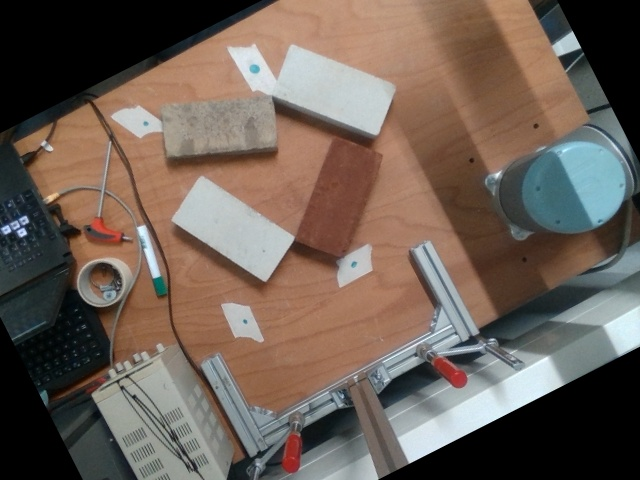brick: (170, 172, 296, 282), (270, 42, 397, 135), (290, 133, 384, 258), (158, 92, 277, 156)
